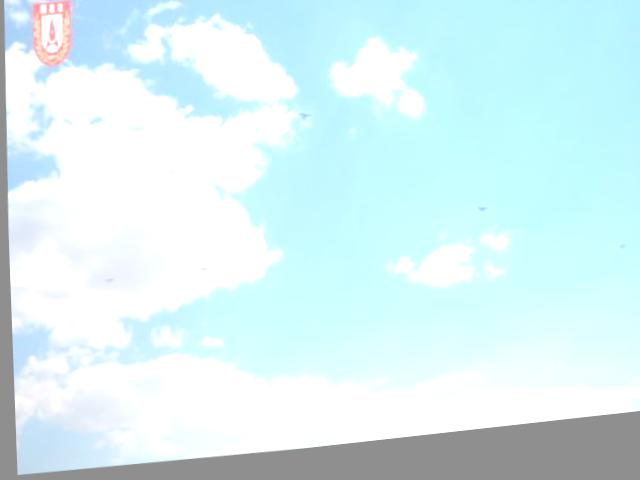uav: (294, 115, 310, 127), (101, 275, 115, 287), (195, 266, 209, 277), (474, 214, 487, 224)
